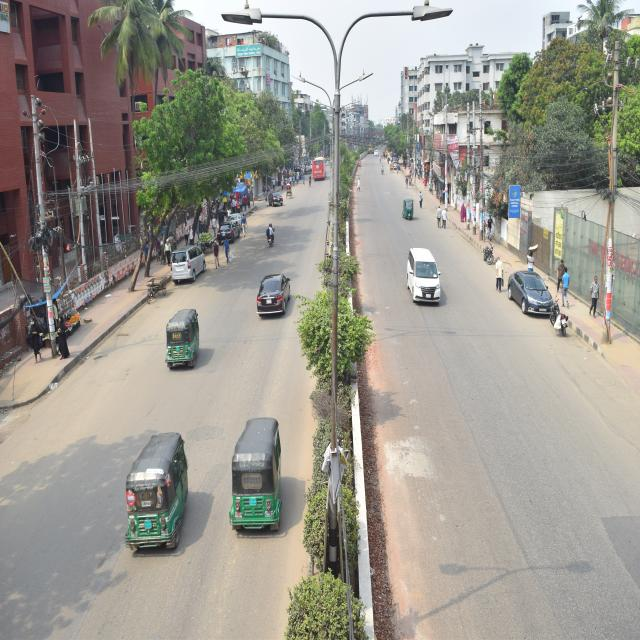bus: (309, 154, 330, 187)
car: (506, 267, 560, 323), (255, 265, 295, 320), (215, 216, 243, 247), (266, 190, 286, 210)
microbus: (400, 239, 446, 306), (171, 242, 209, 285)
motorbike: (545, 283, 572, 338), (266, 224, 283, 253), (480, 241, 500, 265)
